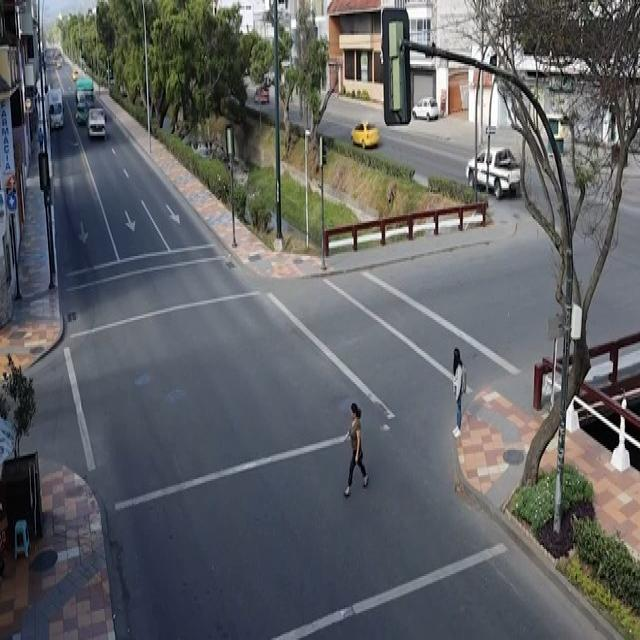CMT: (469, 148, 521, 197)
